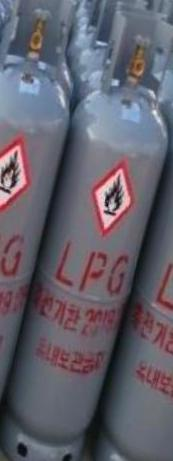cylinder: (0, 1, 173, 461)
